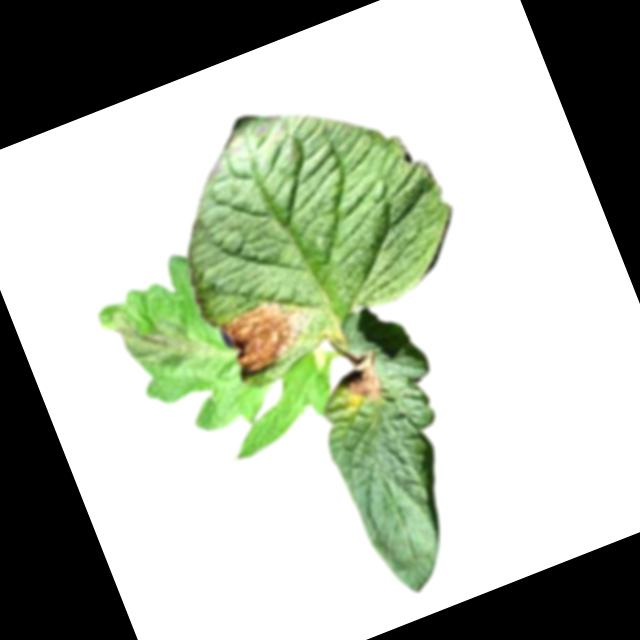Late_blight: (215, 288, 320, 382), (110, 289, 209, 386), (328, 348, 393, 411)
